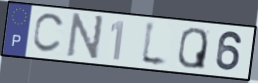1: (109, 19, 126, 61)
6: (214, 30, 244, 73)
C: (31, 12, 67, 55)
L: (138, 19, 170, 71)
N: (64, 12, 107, 63)
Q: (176, 26, 209, 71)
